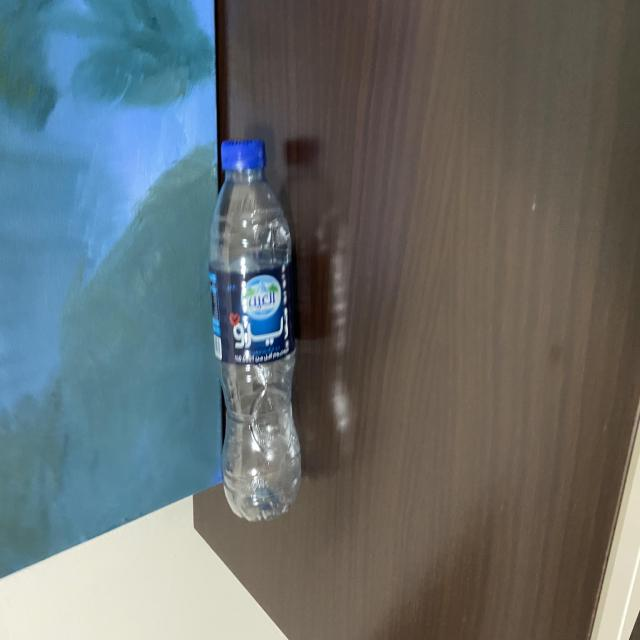plastic: (205, 134, 305, 524)
